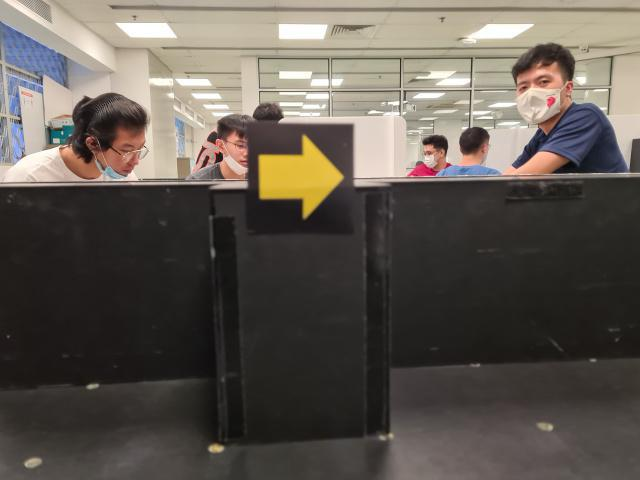right: (247, 123, 355, 232)
